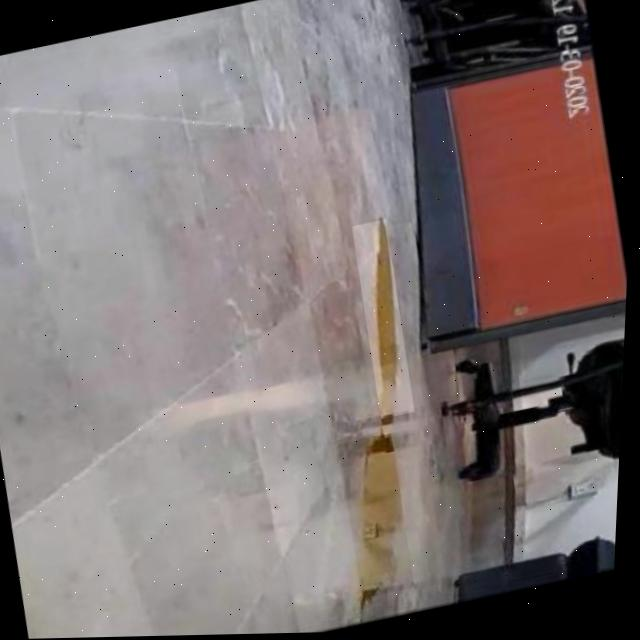spillage: (364, 437, 404, 599), (378, 223, 400, 420)
